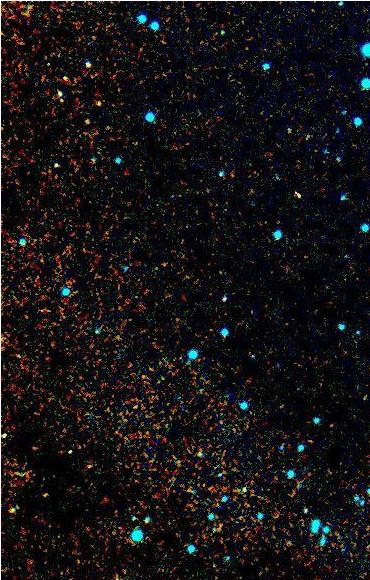star: (84, 90, 114, 120)
